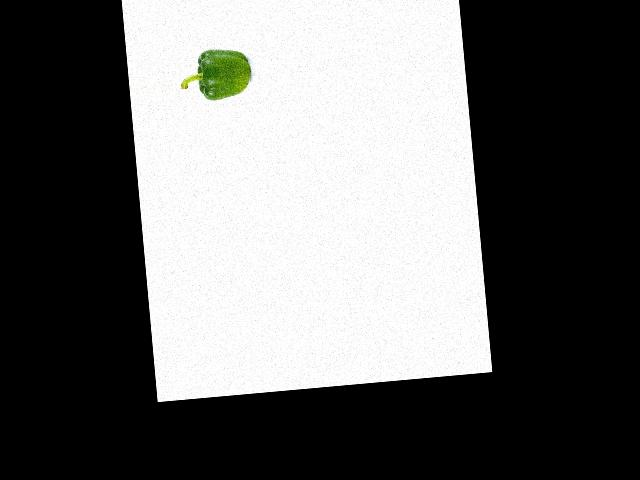bell_pepper: (179, 38, 253, 104)
